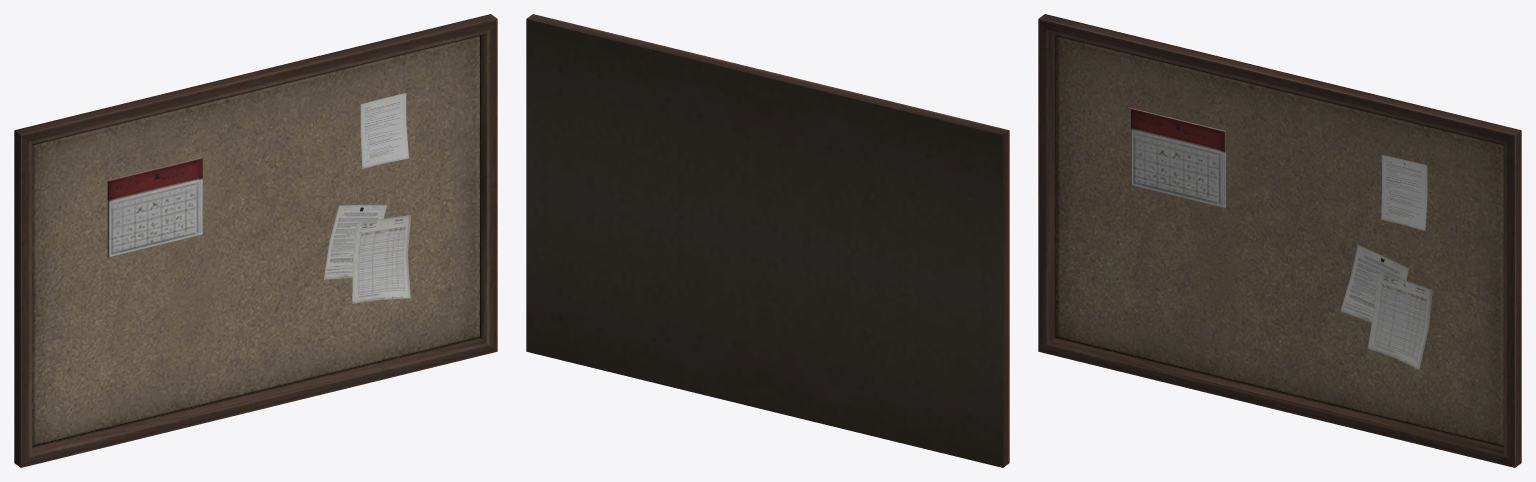
The model's file is Office_CubicleBigBoard.fbx.
3 views of the same model, side by side, from view 1: azimuth 30°, elevation 25°; view 2: azimuth 150°, elevation 25°; view 3: azimuth 330°, elevation 25° (orthographic).
Parts seen in each view (by area): view 1: Office_CubicleBigBoard; view 2: Office_CubicleBigBoard; view 3: Office_CubicleBigBoard.
Part boxes in pixels (x1,y1,x2,y2): Office_CubicleBigBoard: (14, 14, 497, 467); Office_CubicleBigBoard: (526, 14, 1009, 467); Office_CubicleBigBoard: (1038, 14, 1521, 467).
Size of the model in its own units: 2.02 by 1.35 by 0.082.
